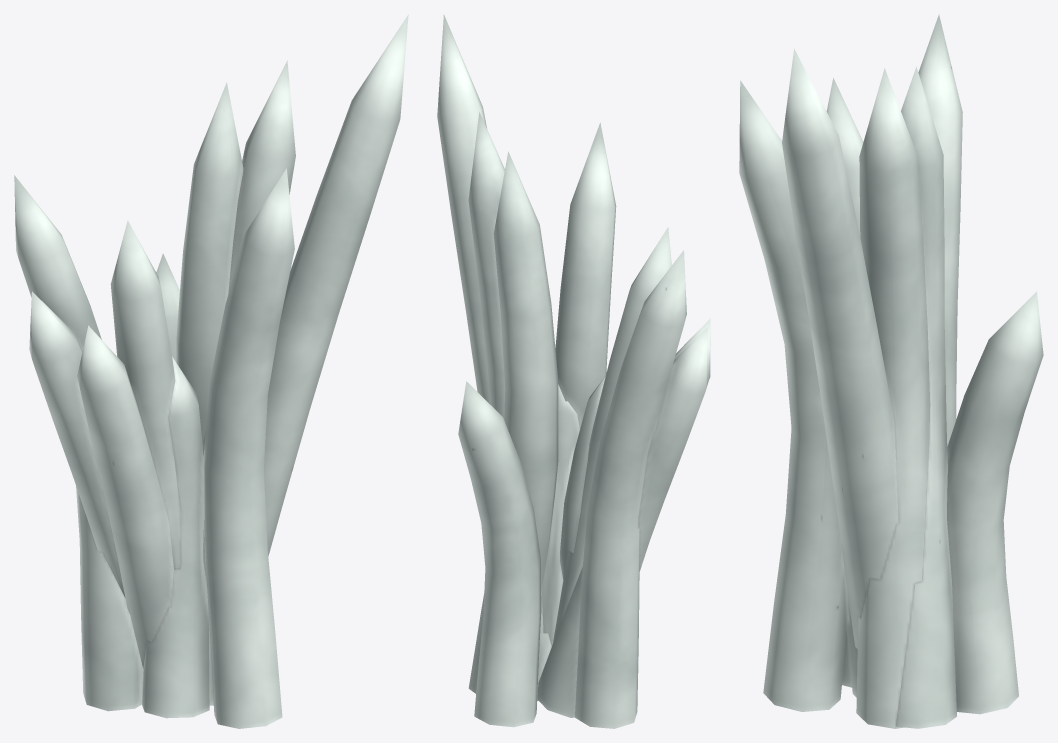
The model's file is underworld-flora-blackwater-palefinger.glb.
3 renders of one model, left to right at view 1: azimuth 30°, elevation 25°; view 2: azimuth 150°, elevation 25°; view 3: azimuth 270°, elevation 25°, orthographic. The views are drawn at different scales.
Parts seen in each view (by area): view 1: fingers; view 2: fingers; view 3: fingers.
Boxes of the visible parts, x1,y1,x2,y2 form: fingers: [14, 14, 408, 728]; fingers: [437, 15, 710, 728]; fingers: [739, 14, 1043, 728].
Size of the model in its own units: 0.4886 by 0.9498 by 0.3523.
Materials: 1 (1 with a texture image).
